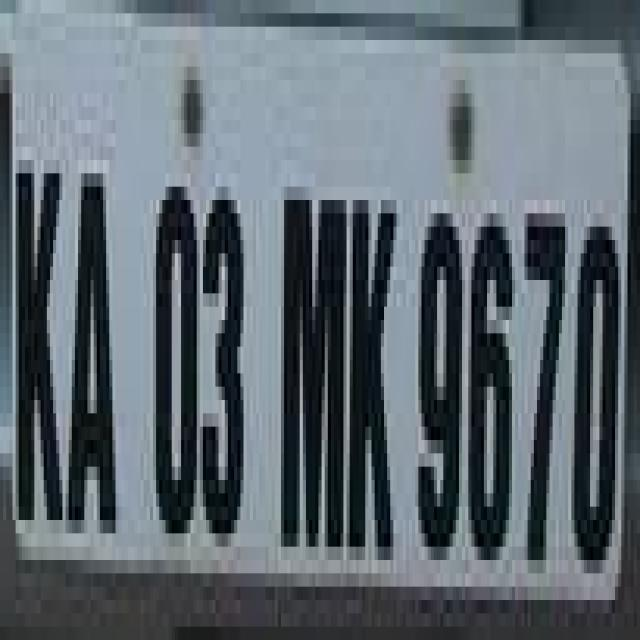license_plate: (9, 0, 600, 640)
